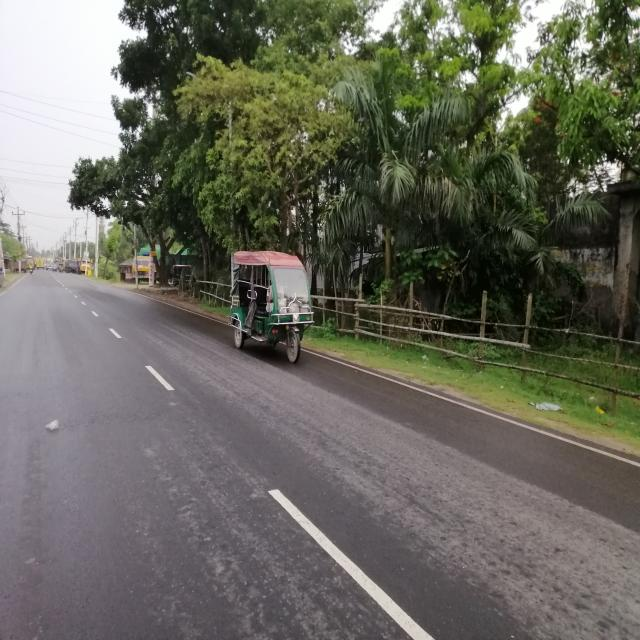Easybike: (230, 247, 314, 367)
